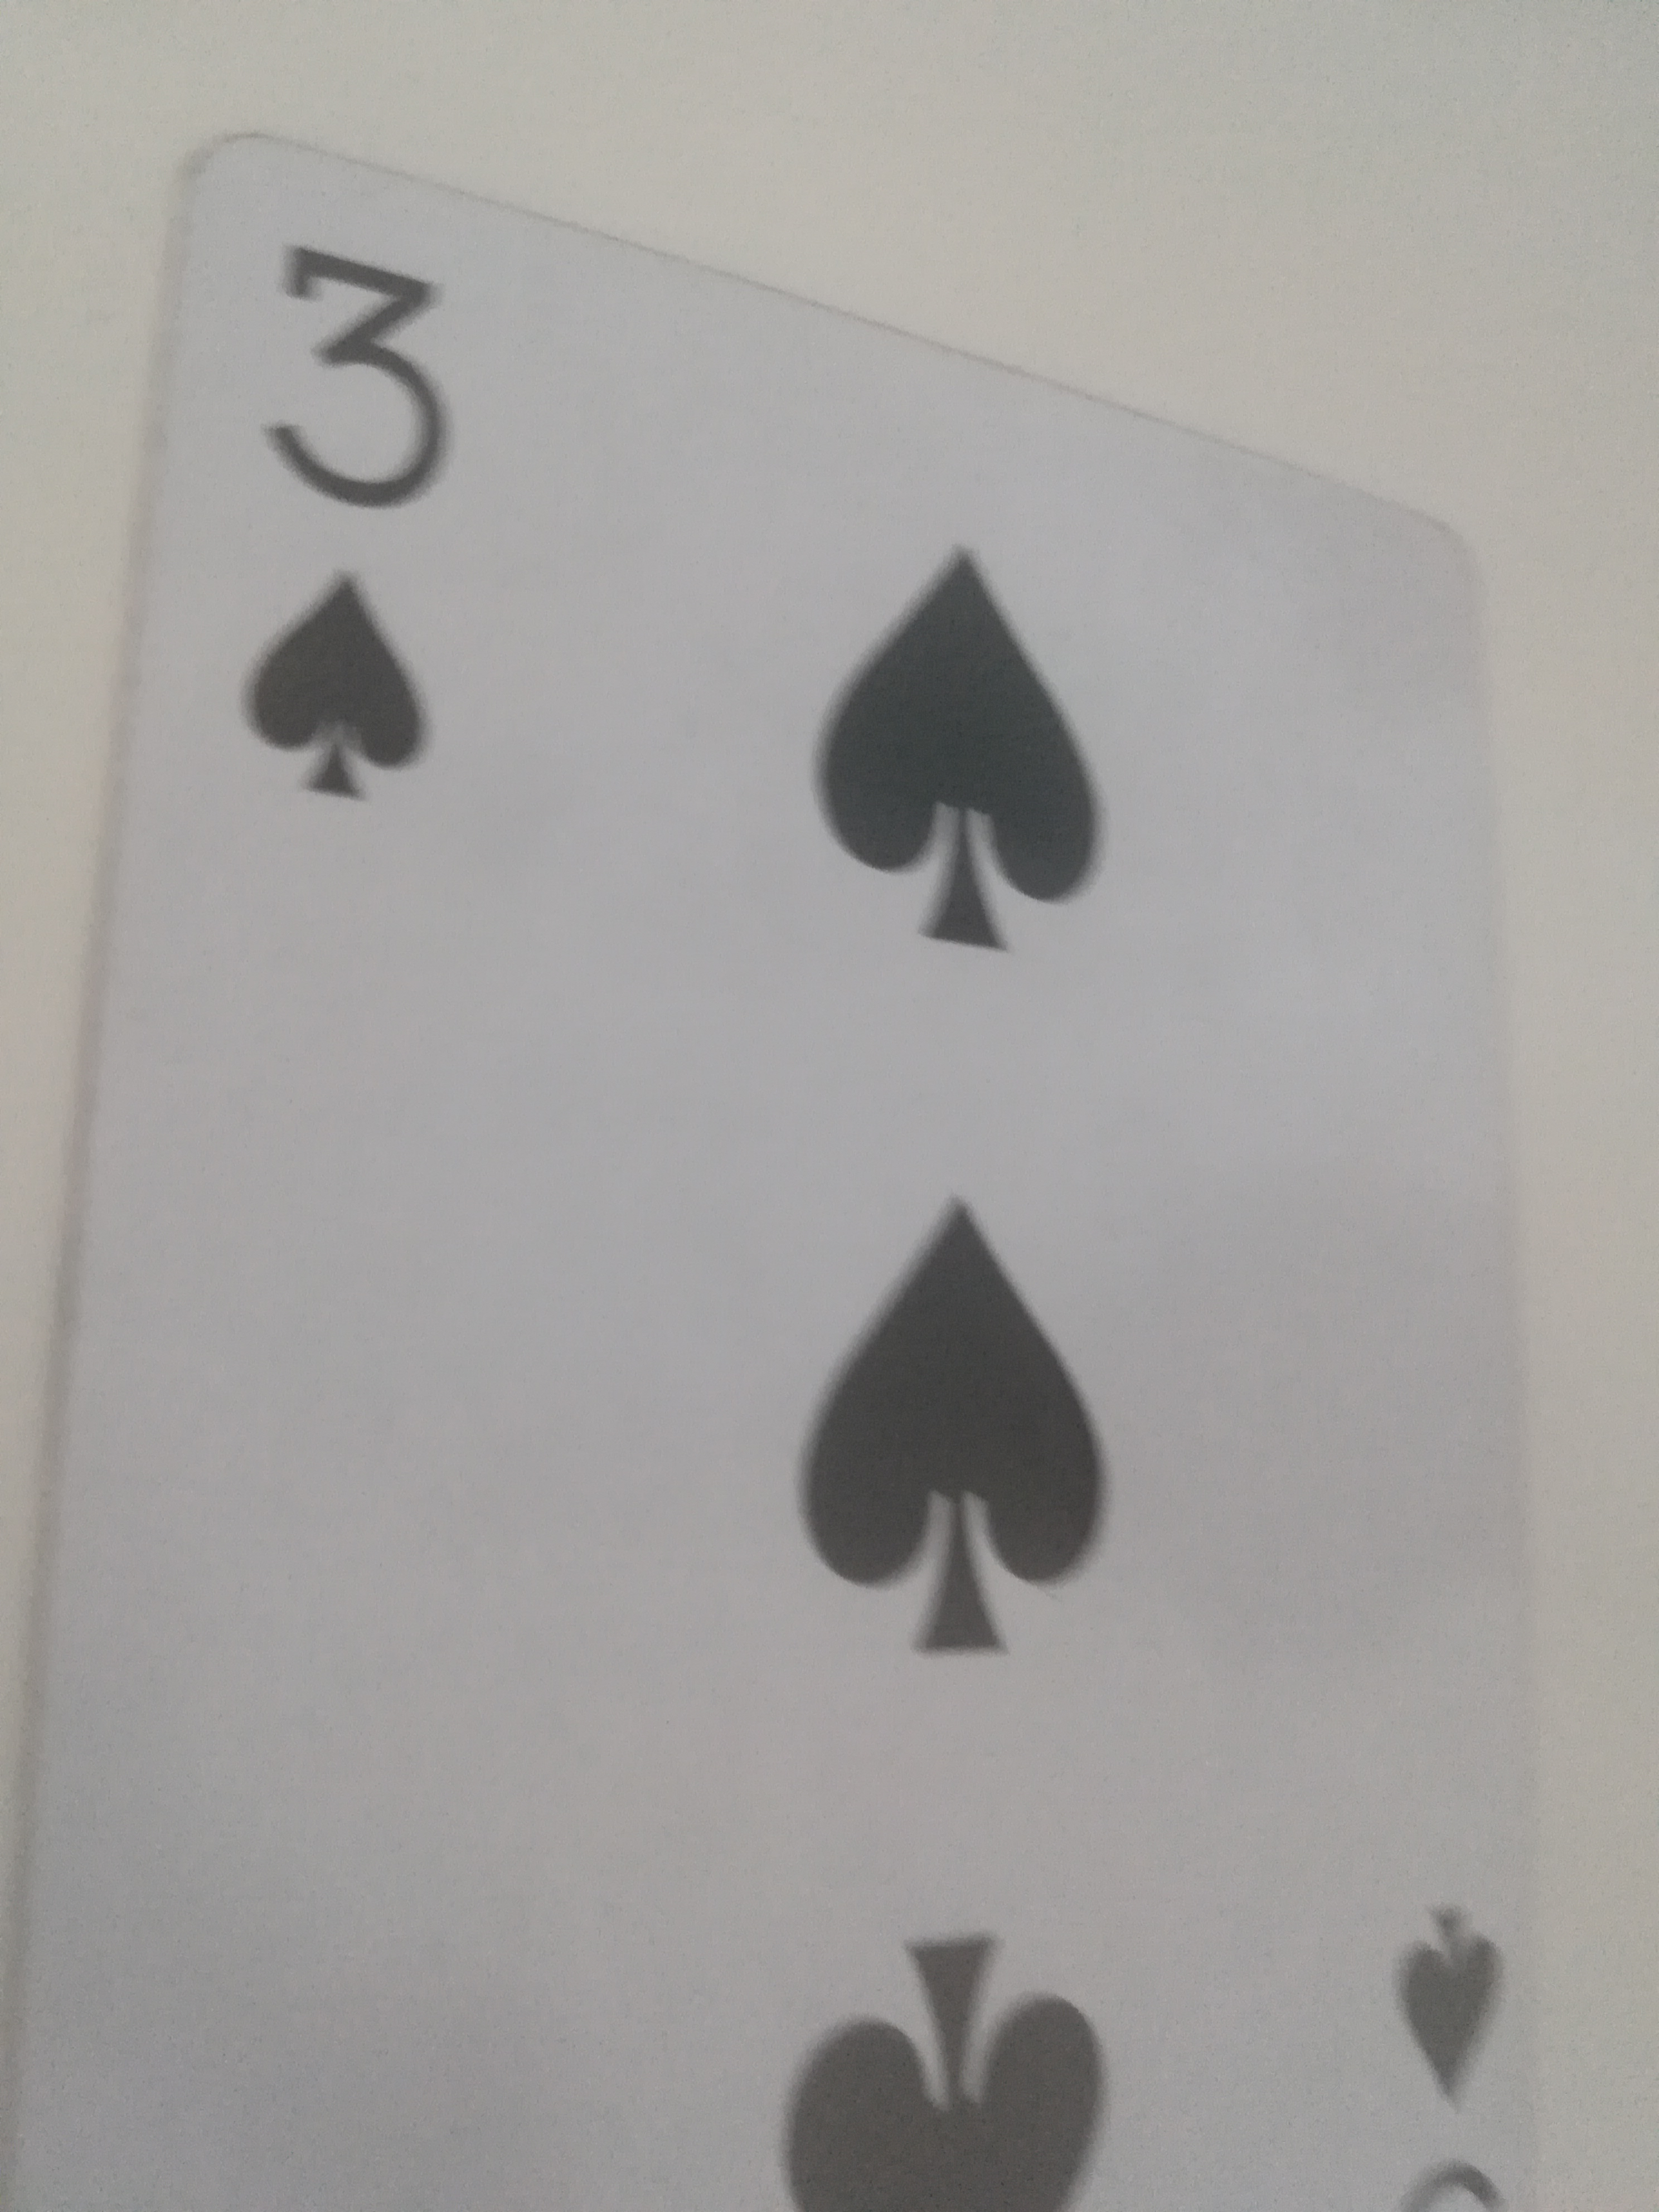3S: (14, 125, 1539, 2212)
